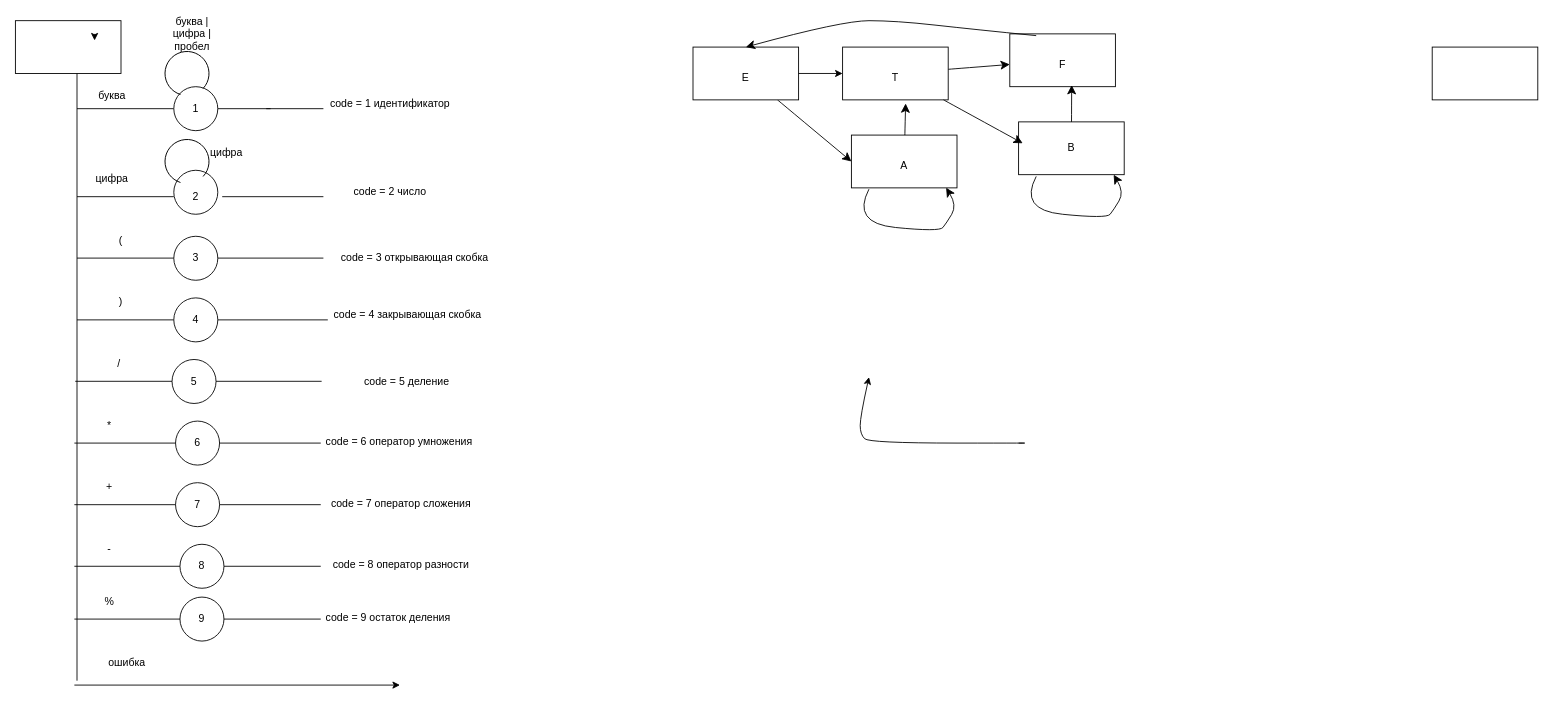
This 1553x708 diagram has some shape labels left out. Each missing label, with the centre of its shape:
END: the point at 1484,73
start: the point at 68,46
